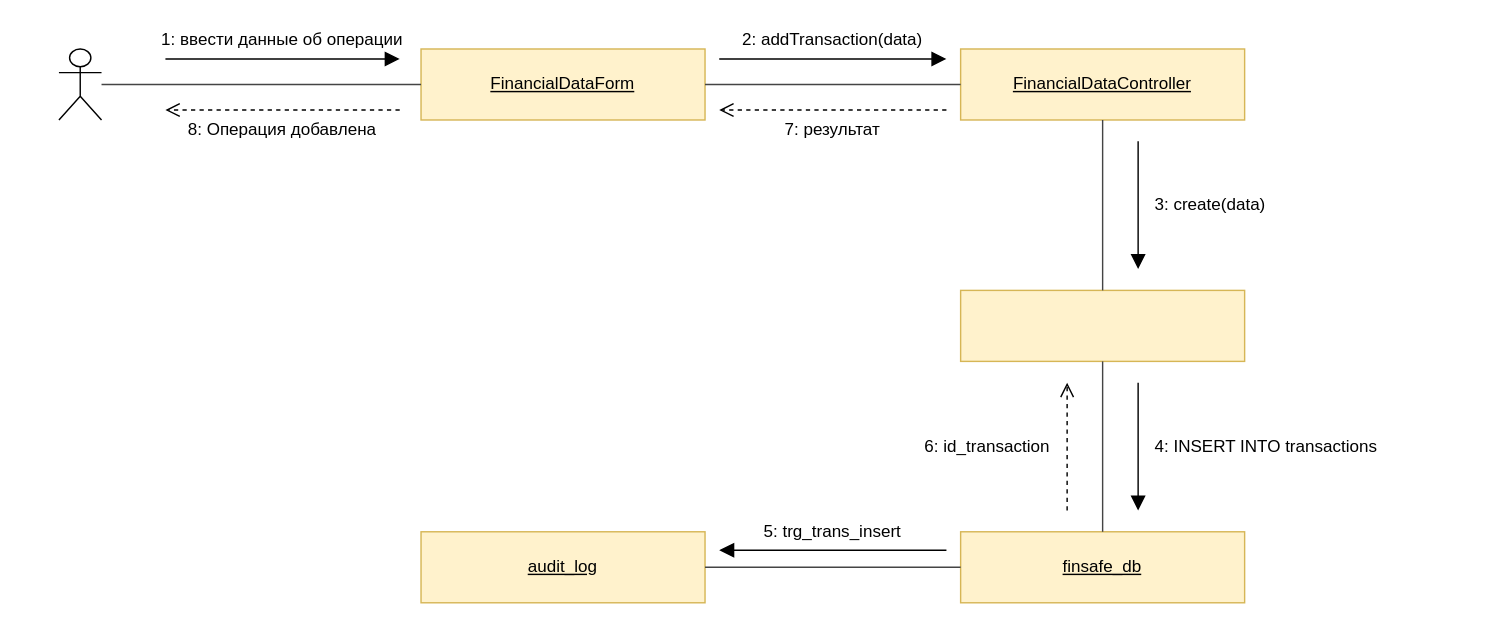
Image size: 1490x628. Some labels were removed from this diagram. Here are the shapes that lost their labels. From the top down, the centre of each, then its label:
At [80,84]: "Пользователь".
At [1102,325]: "Transaction".
